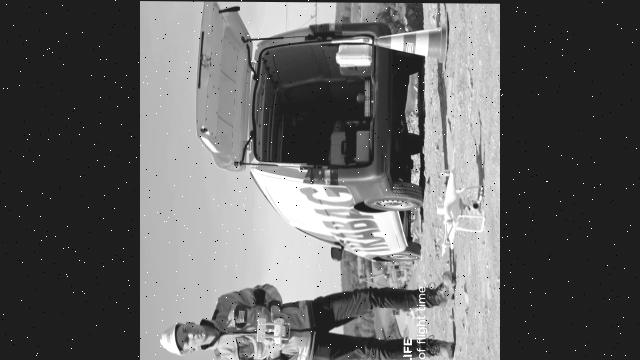drone: (436, 165, 484, 256)
